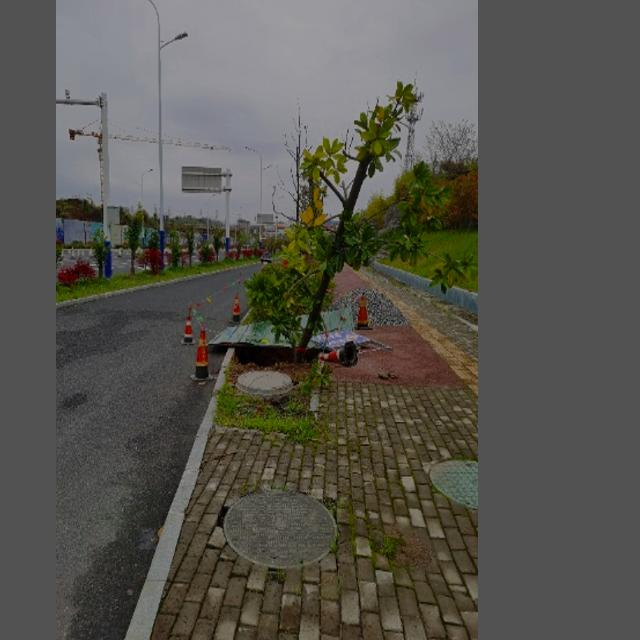good: (223, 489, 337, 567), (430, 456, 477, 511)
